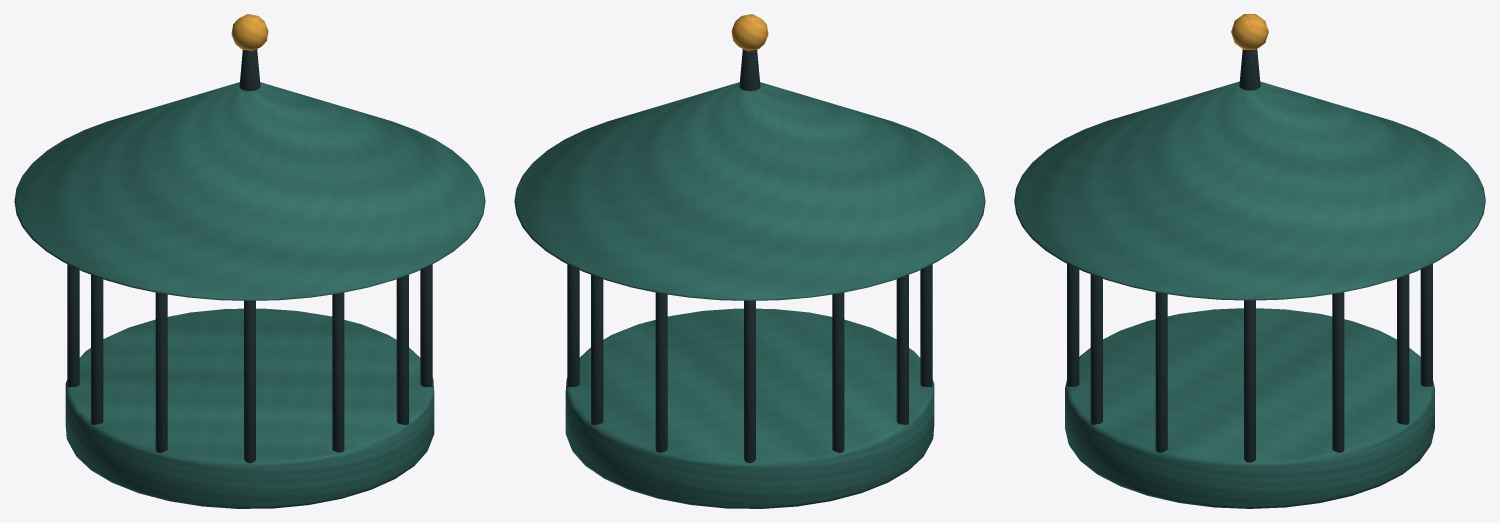
File: Lighthouse_Lantern.fbx
The picture shows the model from 3 angles, left to right: view 1: azimuth 30°, elevation 25°; view 2: azimuth 150°, elevation 25°; view 3: azimuth 270°, elevation 25°; orthographic projection.
Visible parts, largest first — view 1: Lighthouse_Lantern; view 2: Lighthouse_Lantern; view 3: Lighthouse_Lantern.
Part boxes in pixels (x1,y1,x2,y2): Lighthouse_Lantern: (14, 14, 485, 508); Lighthouse_Lantern: (514, 14, 985, 508); Lighthouse_Lantern: (1014, 14, 1485, 508).
Bounding box in the file's own units: 573 × 573 × 560.
